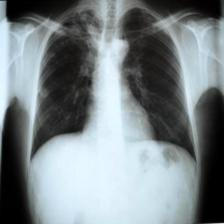tuberculosis: (26, 2, 201, 174)
